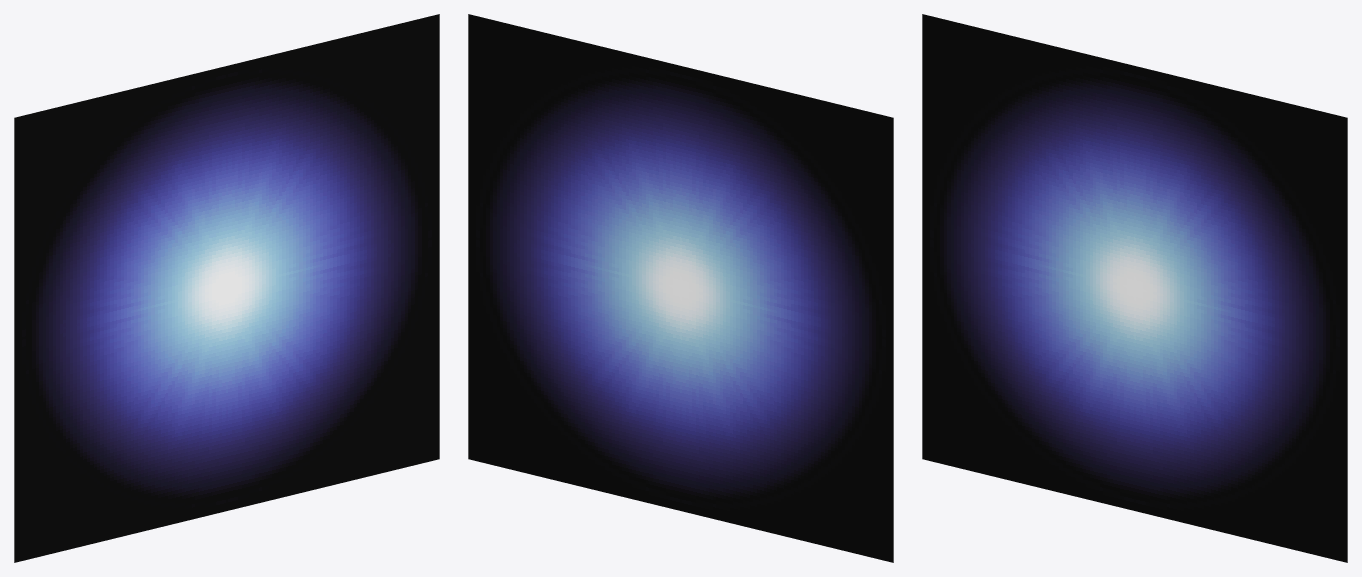
The model's file is si_eos_pud1.glb.
3 renders of one model, left to right at view 1: azimuth 30°, elevation 25°; view 2: azimuth 150°, elevation 25°; view 3: azimuth 330°, elevation 25°, orthographic.
Visible parts, largest first — view 1: layer_00_si_eos_pud0; view 2: layer_00_si_eos_pud0; view 3: layer_00_si_eos_pud0.
Boxes of the visible parts, bbox=[...] form: layer_00_si_eos_pud0: bbox=[14, 14, 439, 562]; layer_00_si_eos_pud0: bbox=[468, 14, 893, 562]; layer_00_si_eos_pud0: bbox=[922, 14, 1347, 562].
Bounding box in the file's own units: 40 × 40 × 3.02e-06.
Materials: 1 (1 with a texture image).
